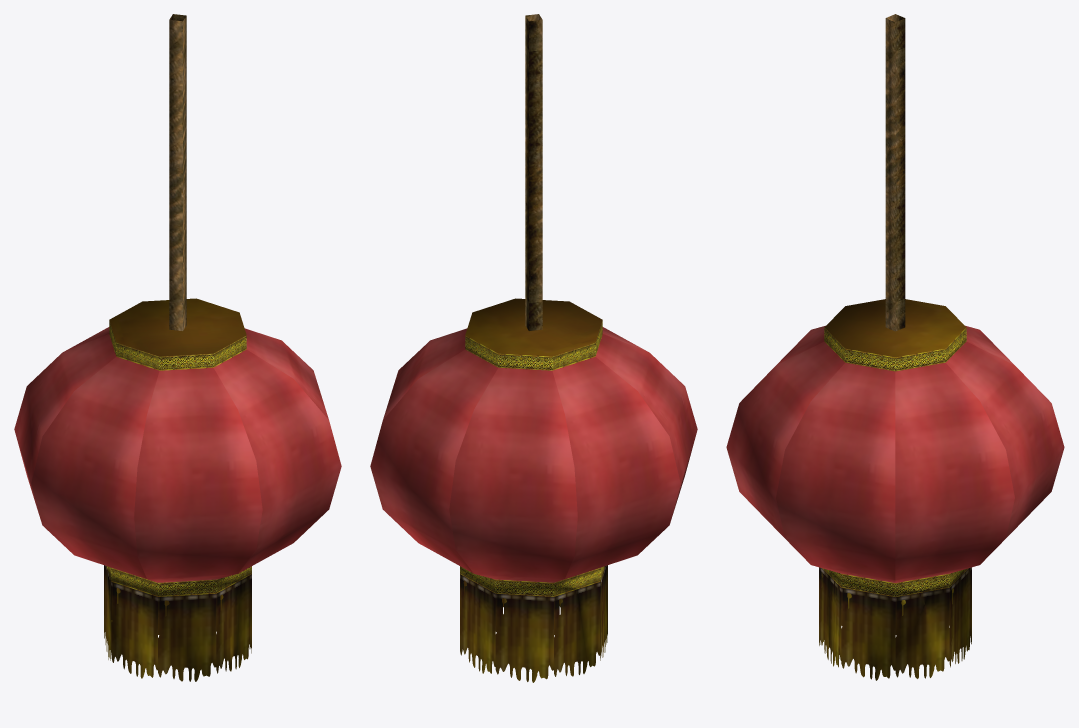
File: KM_VOB_LANTERN_02.glb
3 views of the same model, side by side, from view 1: azimuth 30°, elevation 25°; view 2: azimuth 150°, elevation 25°; view 3: azimuth 270°, elevation 25° (orthographic).
Visible parts, largest first — view 1: Mesh; view 2: Mesh; view 3: Mesh.
Boxes of the visible parts, x1,y1,x2,y2 form: Mesh: (14, 14, 341, 681); Mesh: (370, 14, 697, 682); Mesh: (726, 14, 1064, 680).
Size of the model in its own units: 0.5728 by 1.24 by 0.5728.
Materials: 4 (4 with a texture image).
